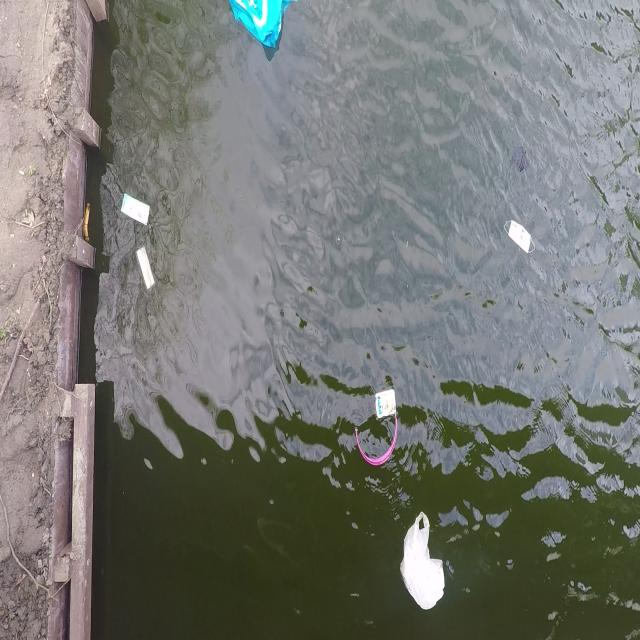Autre plastique: (365, 383, 403, 422)
Non plastique: (500, 210, 540, 260)
Sac plastique: (395, 505, 452, 616), (225, 0, 298, 51)
